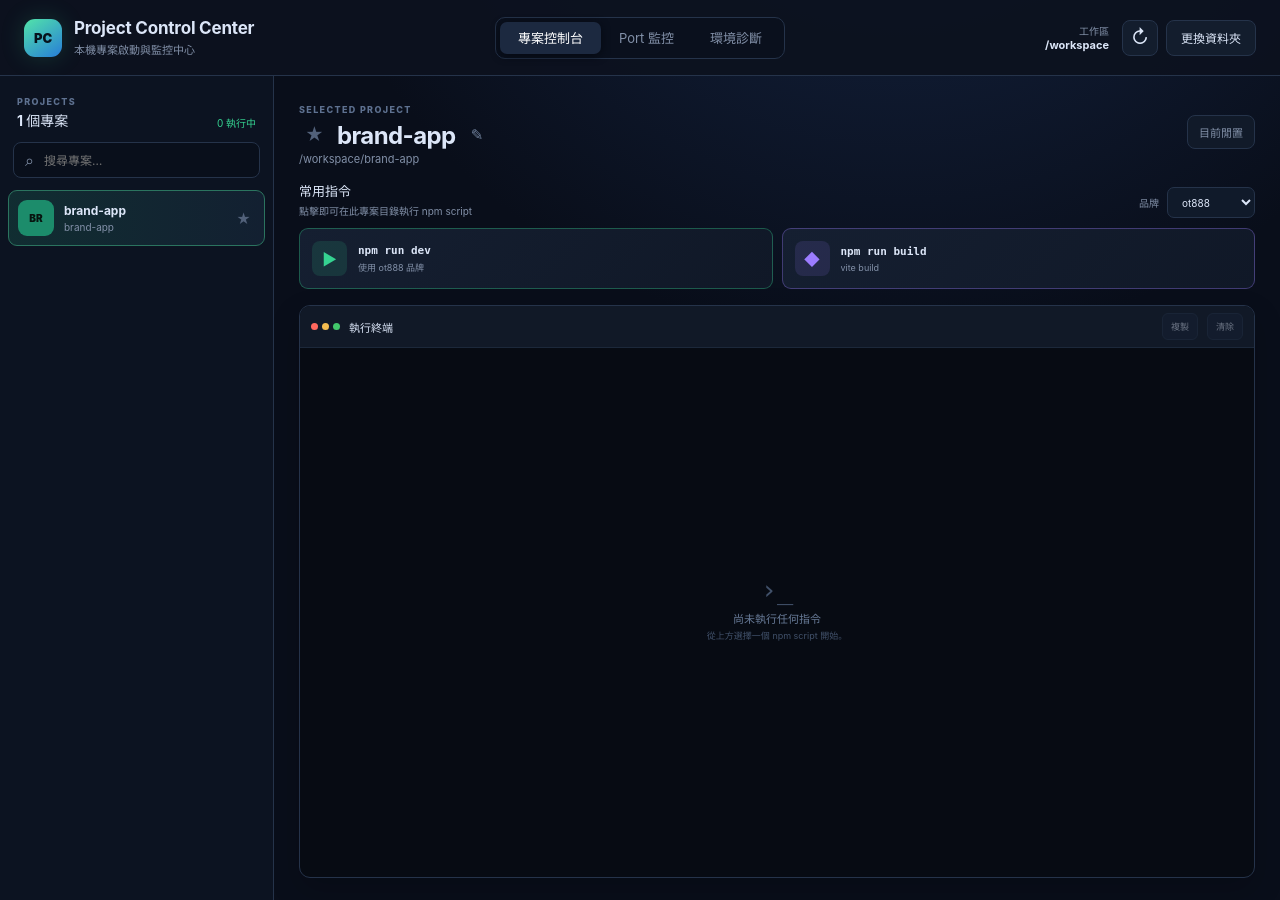
Test: Project Control Center UI › renders discovered projects and passes the selected brand to npm dev
The width and height of the screenshot is (1280, 900).
Select "rojs" in the dropdown labelled "品牌" at x=1211, y=202, box [1167,187,1255,218]
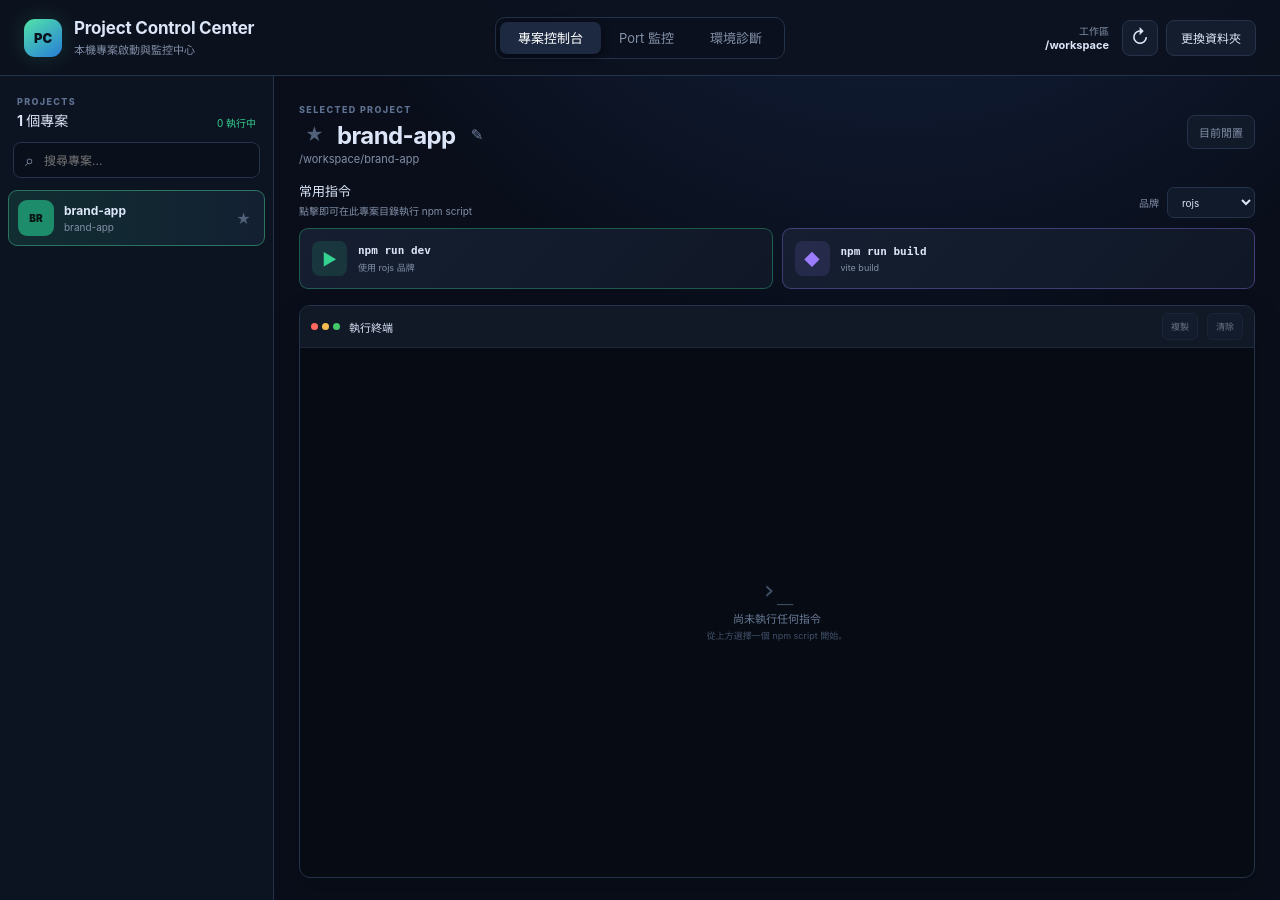
Click the button "▶ npm run dev 使用 rojs 品牌" at x=330, y=258, box [299,228,772,289]
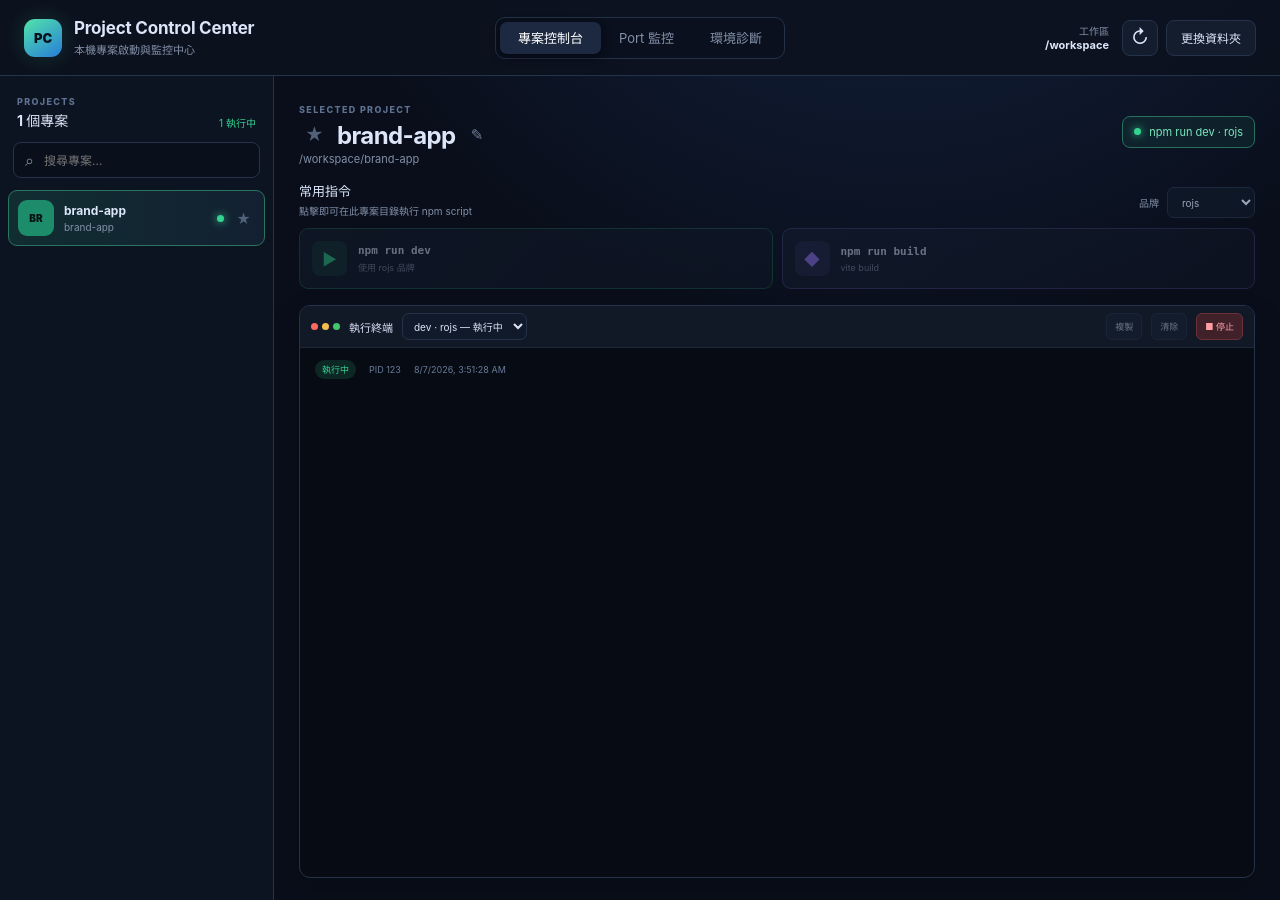
Now the button with class "stopButton" is shown, box [1196,313,1243,340]
